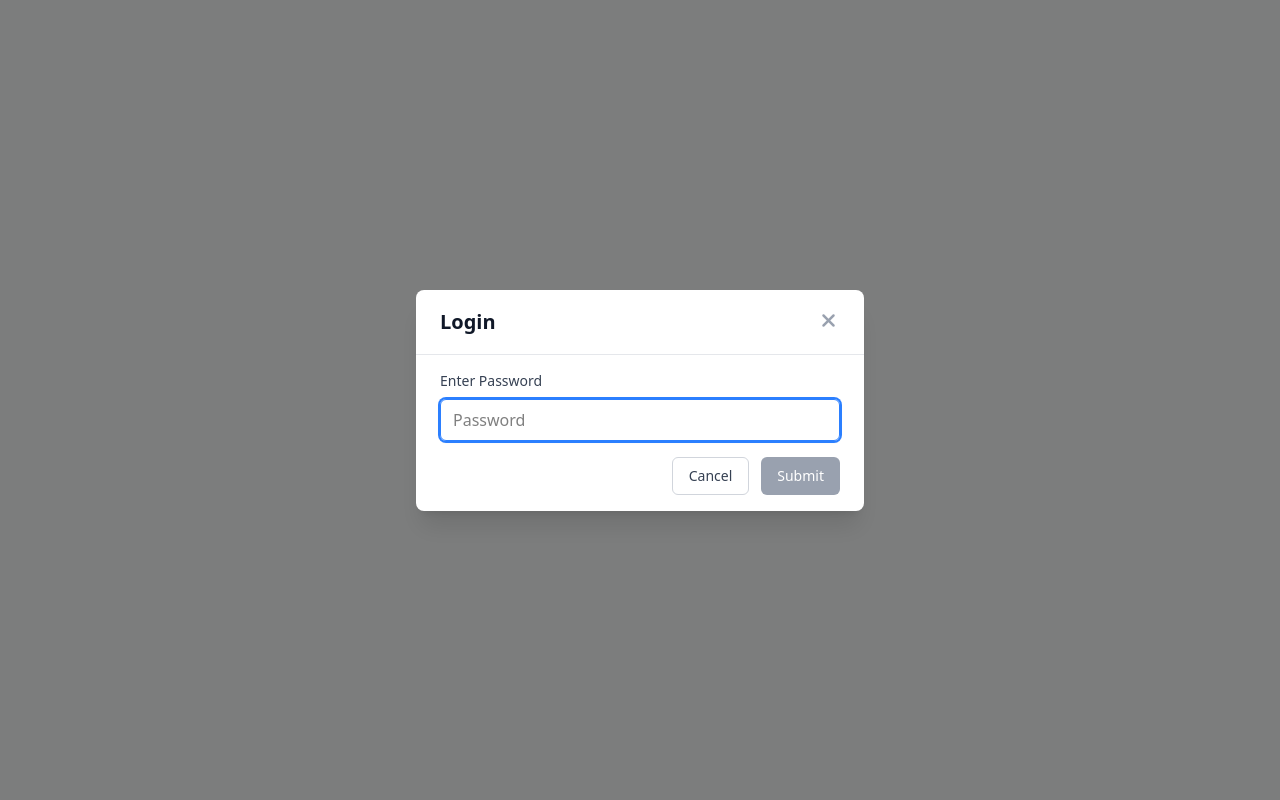
Test: PasswordDialog Component › Password Validation - Incorrect Password › should show error message for incorrect password
In the password field labelled "Enter Password": (640, 420) x1=440 y1=398 x2=840 y2=440, type "wrong-password"
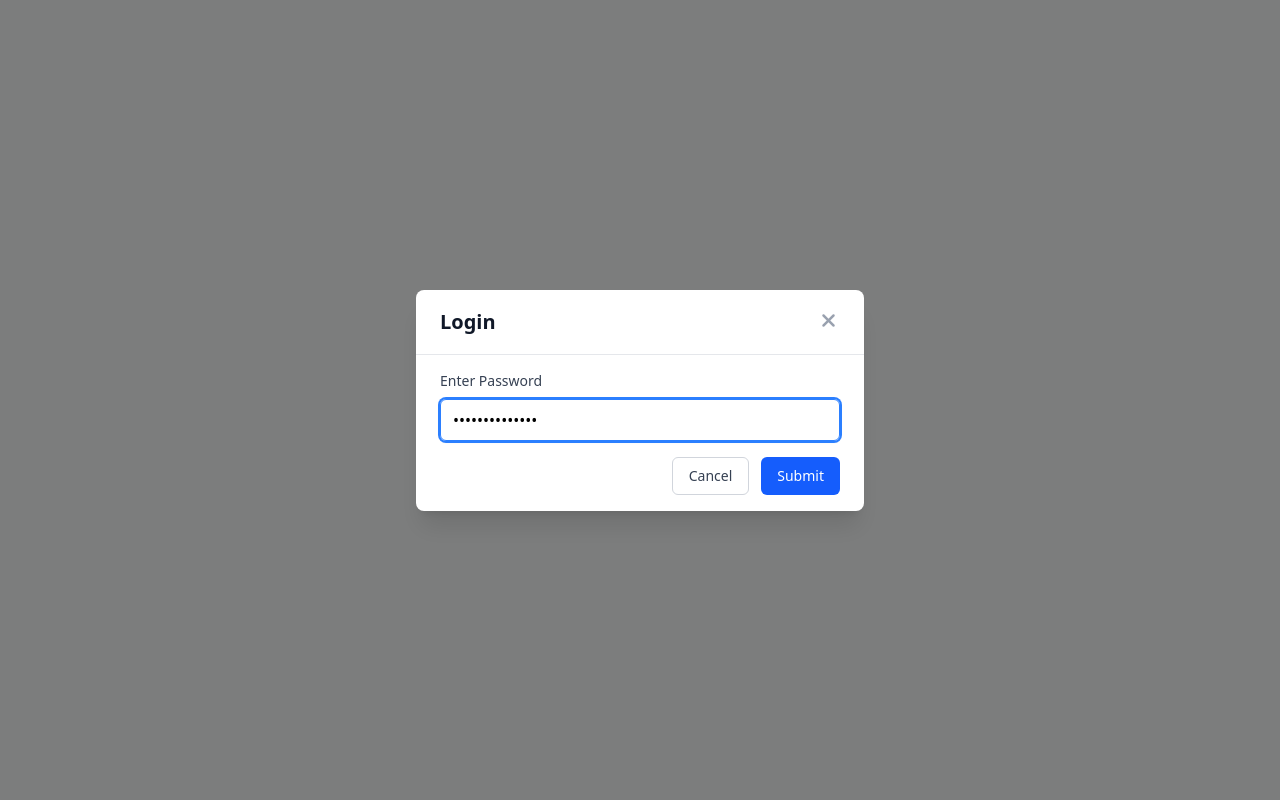
Click the button "Submit": (801, 476) x1=761 y1=456 x2=840 y2=494
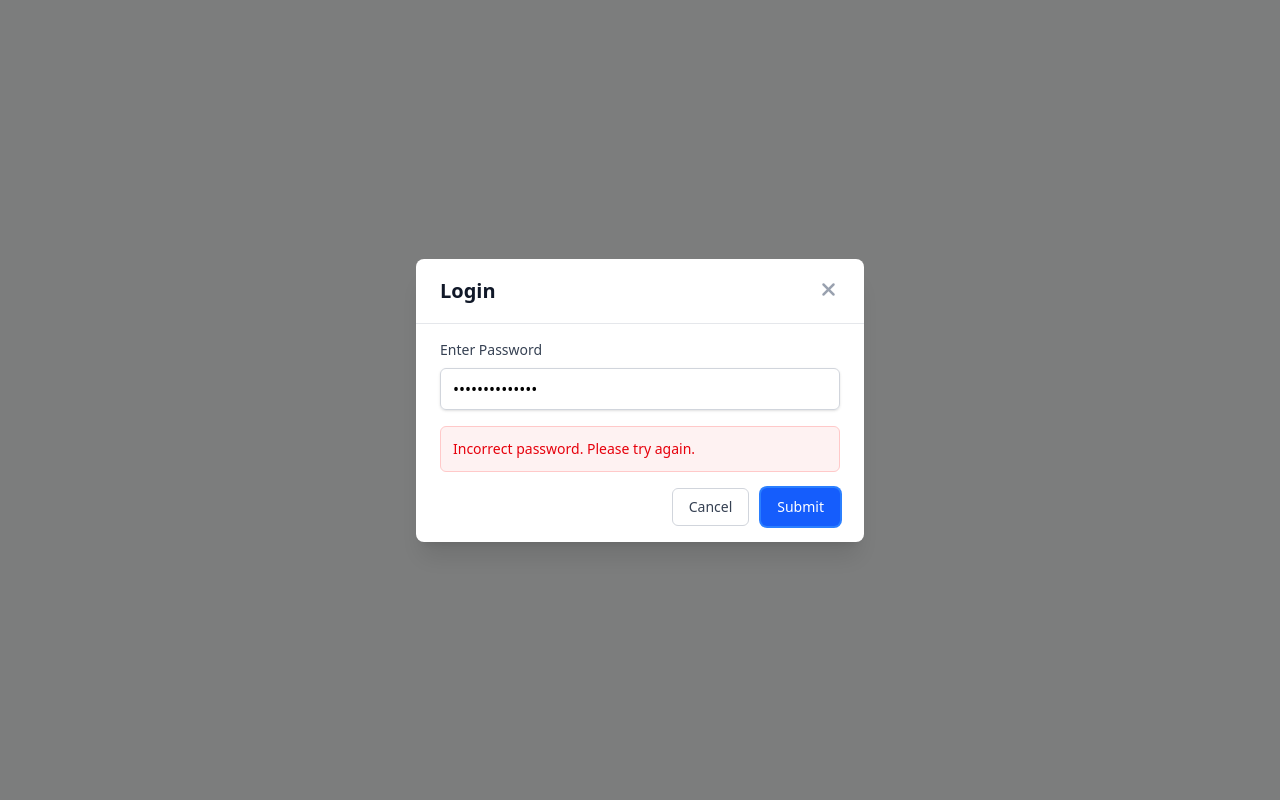
Expected: the text "Incorrect password. Please try again." is shown, x1=453 y1=438 x2=695 y2=458
